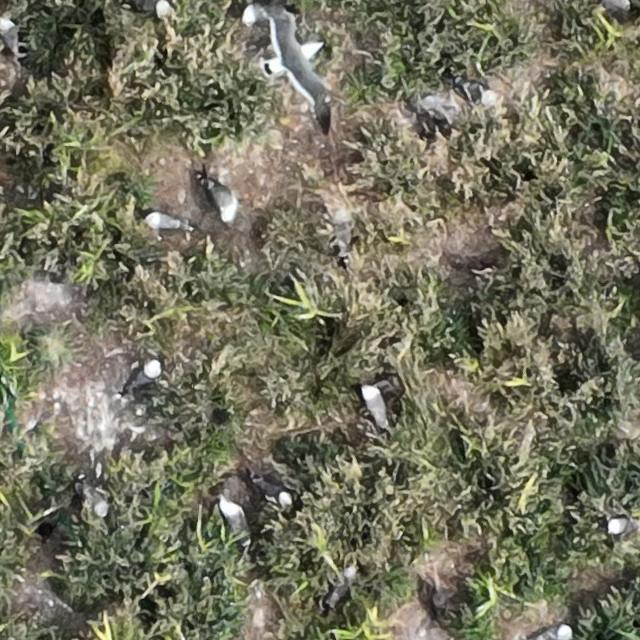F: (270, 22, 330, 109)
umineko: (210, 184, 240, 220), (331, 565, 357, 606), (461, 80, 499, 106), (364, 386, 386, 423), (255, 480, 289, 503), (85, 482, 108, 516), (130, 360, 159, 386), (244, 5, 278, 24), (146, 215, 182, 232), (2, 18, 20, 52), (135, 2, 175, 17), (221, 500, 242, 528), (608, 517, 635, 535), (601, 0, 630, 9)
